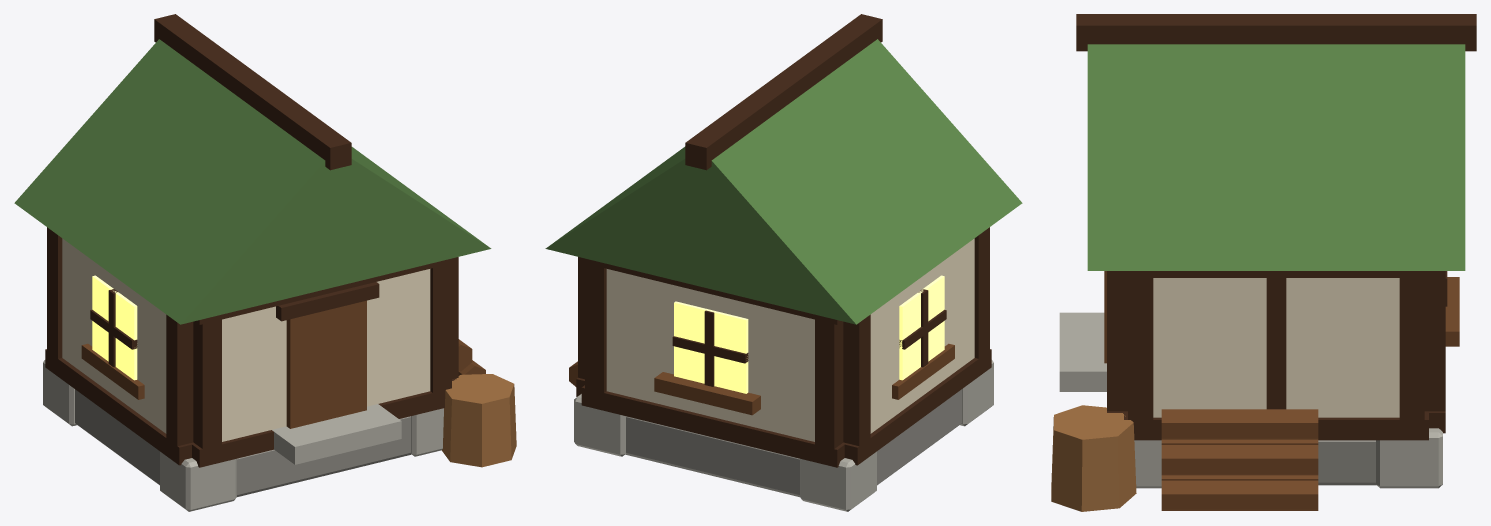
File: lumber_hut.glb
3 views of the same model, side by side, from view 1: azimuth 30°, elevation 25°; view 2: azimuth 150°, elevation 25°; view 3: azimuth 270°, elevation 25° (orthographic). The views are drawn at different scales.
Parts seen in each view (by area): view 1: roof_body, wall_plaster, door_leaf, wall_plaster.002, foundation_core, roof_ridge, chop_block, door_step, post.004, post, corner_brick, post.001 (+11 smaller); view 2: roof_body, wall_plaster.001, foundation_core, wall_plaster.002, roof_ridge, beam_bot.001, win_pane, post.003, post.005, corner_brick.001, beam_bot.002, post.002 (+11 smaller); view 3: roof_body, wall_plaster.003, roof_ridge, chop_block, log.005, log.002, log.004, post.006, post.007, door_step, corner_brick.003, beam_bot.003 (+9 smaller).
Part boxes in pixels (left/top/right/bottom): roof_body: left=14, top=39, right=491, bottom=324; wall_plaster: left=222, top=269, right=430, bottom=441; door_leaf: left=286, top=300, right=366, bottom=428; wall_plaster.002: left=62, top=238, right=166, bottom=433; foundation_core: left=75, top=389, right=411, bottom=496; roof_ridge: left=154, top=14, right=351, bottom=170; chop_block: left=441, top=374, right=516, bottom=467; door_step: left=272, top=404, right=401, bottom=464; post.004: left=166, top=314, right=193, bottom=463; post: left=193, top=317, right=221, bottom=448; corner_brick: left=160, top=451, right=236, bottom=511; post.001: left=430, top=258, right=451, bottom=410; roof_body: left=545, top=39, right=1022, bottom=324; wall_plaster.001: left=606, top=269, right=814, bottom=441; foundation_core: left=625, top=389, right=961, bottom=497; wall_plaster.002: left=870, top=238, right=974, bottom=433; roof_ridge: left=685, top=14, right=882, bottom=170; beam_bot.001: left=581, top=385, right=845, bottom=467; win_pane: left=674, top=301, right=748, bottom=393; post.003: left=815, top=315, right=843, bottom=466; post.005: left=843, top=314, right=870, bottom=463; corner_brick.001: left=800, top=451, right=876, bottom=511; beam_bot.002: left=844, top=349, right=991, bottom=465; post.002: left=585, top=263, right=606, bottom=392; roof_body: left=1087, top=44, right=1465, bottom=270; wall_plaster.003: left=1153, top=278, right=1399, bottom=417; roof_ridge: left=1076, top=14, right=1476, bottom=51; chop_block: left=1051, top=405, right=1136, bottom=511; log.005: left=1161, top=409, right=1318, bottom=439; log.002: left=1161, top=480, right=1318, bottom=510; log.004: left=1161, top=445, right=1318, bottom=475; post.006: left=1399, top=271, right=1424, bottom=439; post.007: left=1128, top=271, right=1153, bottom=439; door_step: left=1059, top=312, right=1106, bottom=391; corner_brick.003: left=1376, top=428, right=1442, bottom=488; beam_bot.003: left=1124, top=413, right=1428, bottom=440.
Bounding box in the file's own units: 1.65 × 1.55 × 1.52.
